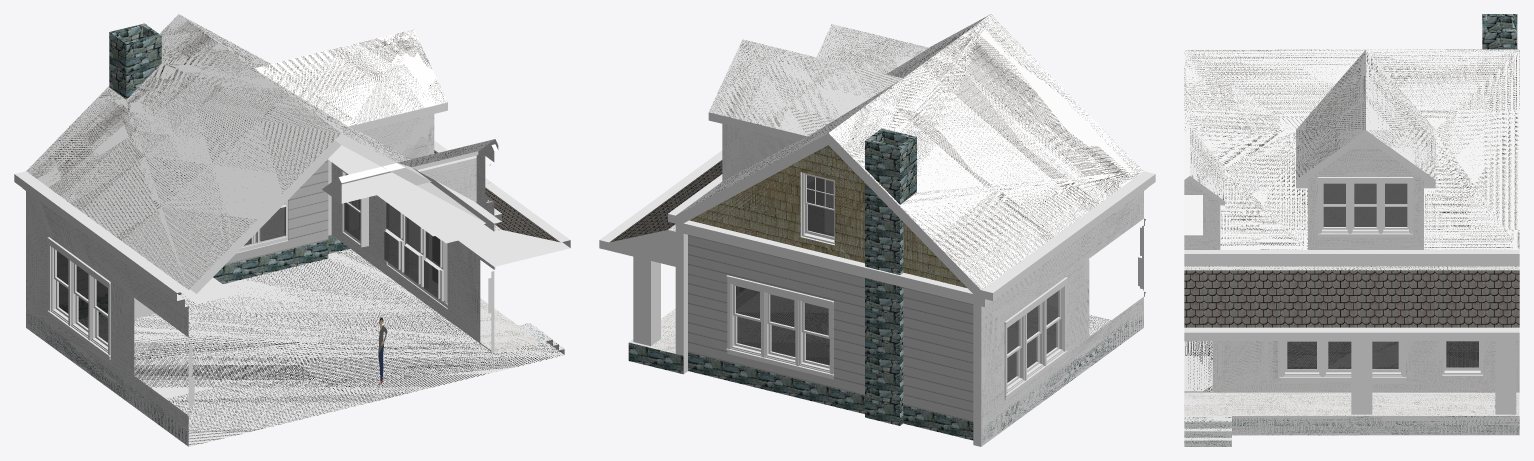
File: houseSectioned.dae
3 views of the same model, side by side, from view 1: azimuth 30°, elevation 25°; view 2: azimuth 150°, elevation 25°; view 3: azimuth 270°, elevation 25° (orthographic). The views are drawn at different scales.
Visible parts, largest first — view 1: SketchUp (×20), Window-3lite_8_-6x5_-4 (×3), WindowDoubleHung35x63; view 2: SketchUp (×17), Window-3lite_8_-6x5_-4 (×11), Lower_sash; view 3: SketchUp (×16), Window-3lite_8_-6x5_-4 (×15), Lower_sash.
Part boxes in pixels (x1,y1,x2,y2): SketchUp (×20): (14, 14, 570, 446); Window-3lite_8_-6x5_-4 (×3): (47, 207, 447, 359); WindowDoubleHung35x63: (341, 170, 368, 247); SketchUp (×17): (599, 14, 1155, 446); Window-3lite_8_-6x5_-4 (×11): (726, 275, 1067, 399); Lower_sash: (808, 204, 834, 236); SketchUp (×16): (1184, 14, 1519, 446); Window-3lite_8_-6x5_-4 (×15): (1279, 177, 1412, 381); Lower_sash: (1446, 341, 1478, 367).
Bounding box in the file's own units: 402 × 288 × 270.
Materials: 16 (5 with a texture image).
